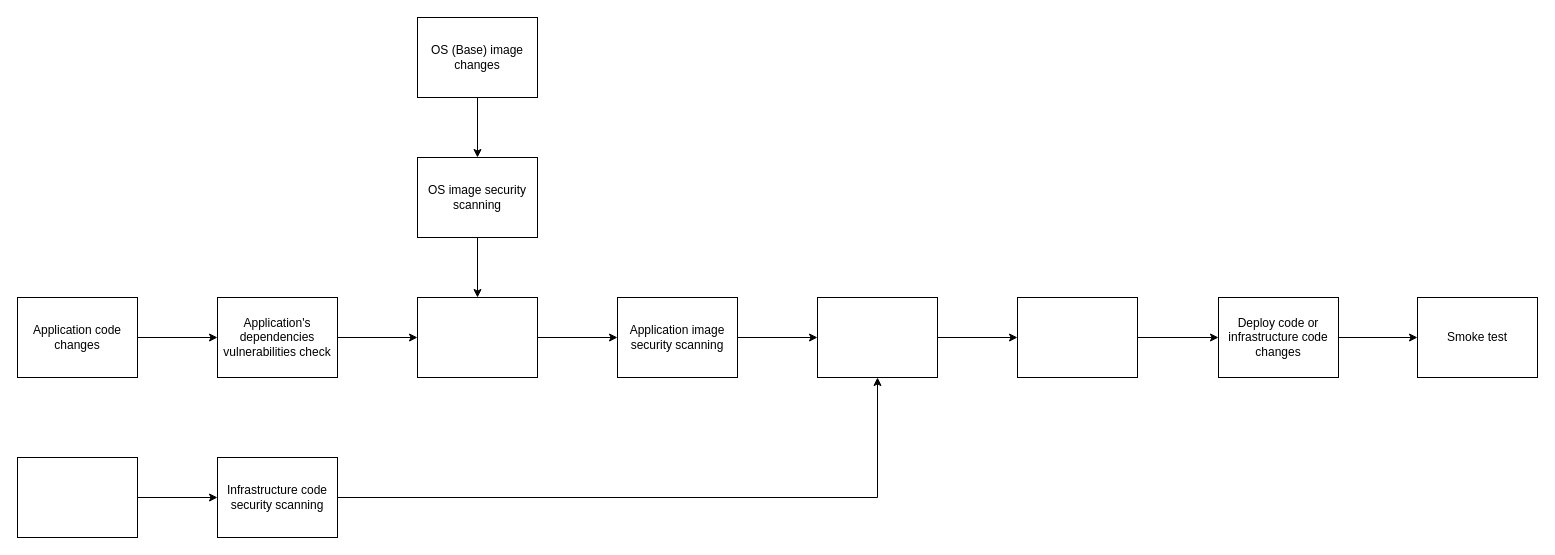
This 1555x555 diagram has some shape labels left out. Each missing label, with the centre of its shape:
"Build application image" belongs at pixel 477 337.
"Infrastructure code changes" belongs at pixel 77 497.
"Integration testing / pentest (in separate deployment environment)" belongs at pixel 1077 337.
"Update or apply infrastructure changes" belongs at pixel 877 337.
